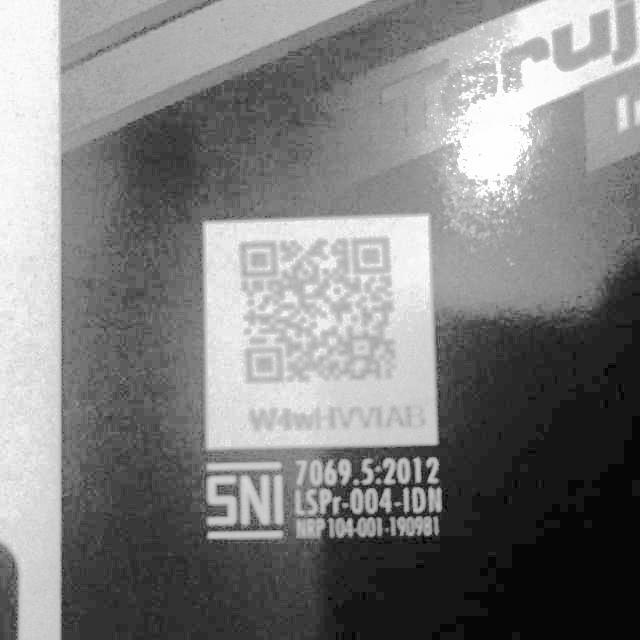qr_code: (232, 234, 407, 391)
